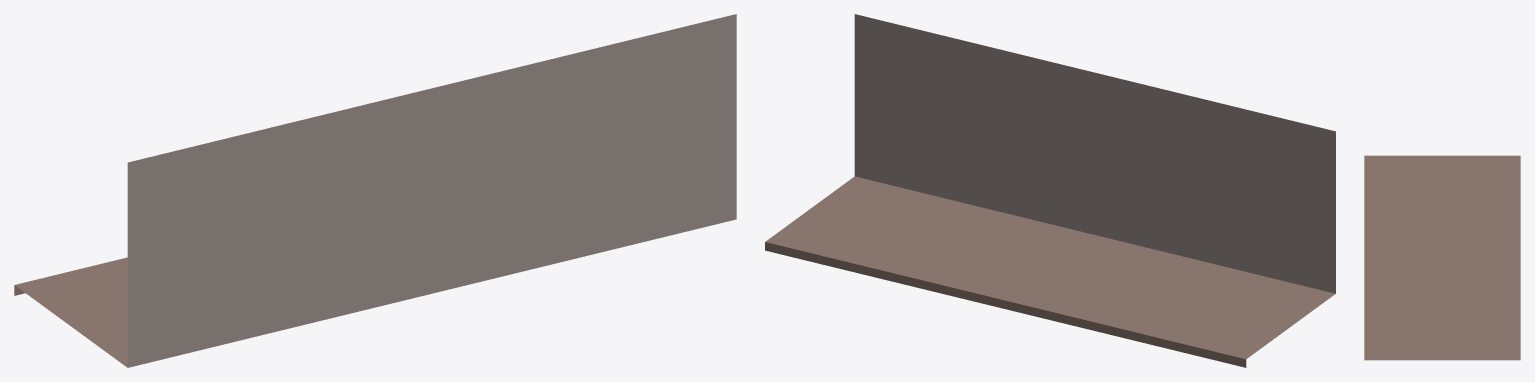
File: mid_end_01.fbx
3 renders of one model, left to right at view 1: azimuth 30°, elevation 25°; view 2: azimuth 150°, elevation 25°; view 3: azimuth 270°, elevation 25°, orthographic. The views are drawn at different scales.
Parts seen in each view (by area): view 1: mid_end_01; view 2: mid_end_01; view 3: mid_end_01.
Boxes of the visible parts, x1,y1,x2,y2 form: mid_end_01: (14, 14, 736, 367); mid_end_01: (765, 14, 1335, 367); mid_end_01: (1364, 155, 1520, 360).
Size of the model in its own units: 595 by 202 by 192.
